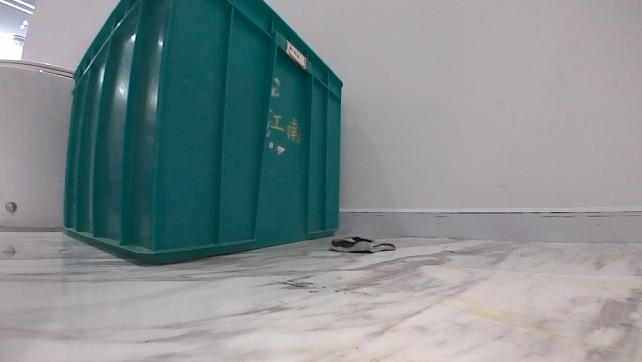socks: (325, 232, 398, 254)
toilet: (0, 57, 77, 232)
